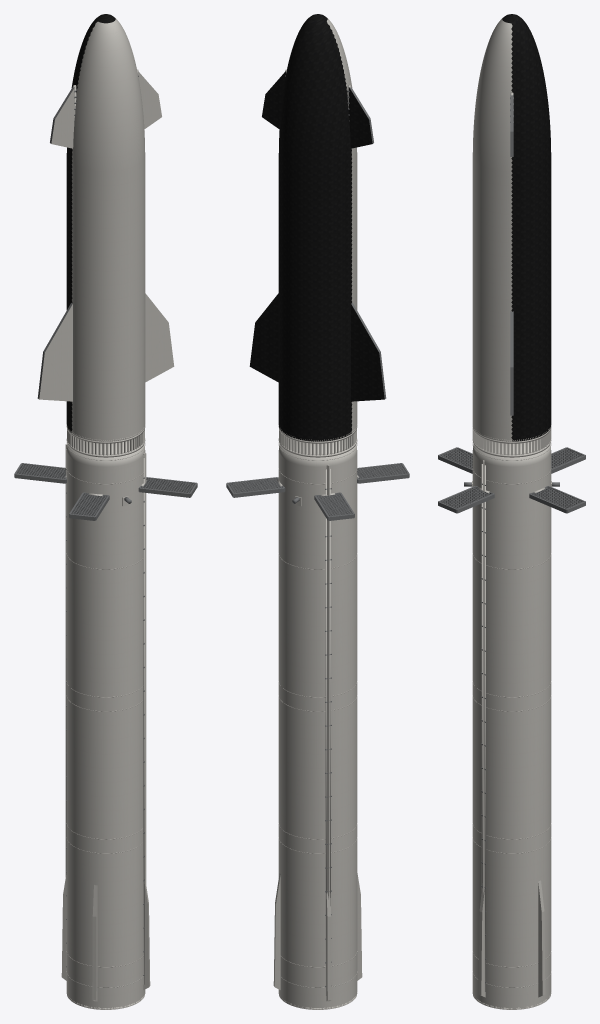
The model's file is starship_stack.glb.
3 renders of one model, left to right at view 1: azimuth 30°, elevation 25°; view 2: azimuth 150°, elevation 25°; view 3: azimuth 270°, elevation 25°, orthographic.
Visible parts, largest first — view 1: BoosterHull, ShipHull, FlapSkin_AL, FlapSkin_AR, VentedInterstage, FlapSkin_FL, Grid_3, Grid_1, Grid_2, FlapSkin_FR; view 2: BoosterHull, ShipHull, FlapSkin_AL, FlapSkin_AR, VentedInterstage, FlapSkin_FL, Grid_0, Grid_2, Grid_1, FlapSkin_FR; view 3: BoosterHull, ShipHull, VentedInterstage, Grid_0, Grid_3, Grid_1, Grid_2, FlapSkin_AR.
Part boxes in pixels (box(x1,y1,x2,y2)): BoosterHull: box(61, 438, 150, 1009); ShipHull: box(66, 14, 145, 441); FlapSkin_AL: box(37, 303, 72, 401); FlapSkin_AR: box(145, 293, 174, 382); VentedInterstage: box(66, 426, 145, 457); FlapSkin_FL: box(50, 85, 76, 148); Grid_3: box(138, 477, 197, 497); Grid_1: box(14, 463, 66, 483); Grid_2: box(69, 492, 109, 520); FlapSkin_FR: box(137, 69, 161, 129); BoosterHull: box(273, 438, 362, 1009); ShipHull: box(278, 14, 357, 441); FlapSkin_AL: box(351, 303, 386, 401); FlapSkin_AR: box(249, 293, 278, 382); VentedInterstage: box(278, 426, 357, 457); FlapSkin_FL: box(347, 85, 373, 148); Grid_0: box(226, 477, 285, 497); Grid_2: box(357, 463, 409, 483); Grid_1: box(314, 492, 354, 520); FlapSkin_FR: box(262, 69, 286, 129); BoosterHull: box(472, 439, 551, 1009); ShipHull: box(472, 14, 551, 441); VentedInterstage: box(472, 426, 551, 457); Grid_0: box(529, 486, 585, 513); Grid_3: box(438, 486, 494, 513); Grid_1: box(551, 447, 585, 473); Grid_2: box(438, 447, 472, 473); FlapSkin_AR: box(510, 311, 513, 415).
Size of the model in its own units: 17.9 by 124 by 16.97.
Materials: 4 (2 with a texture image).
